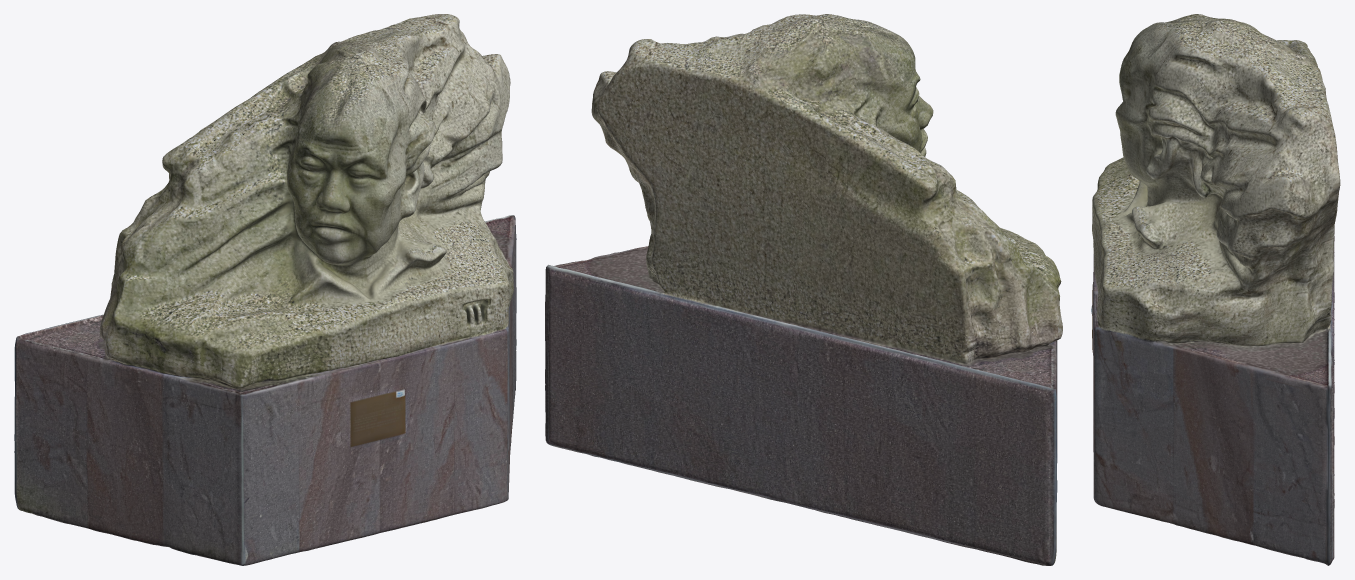
Rendered from tripo_convert_03789140-1d5e-43da-b2f2-a930e6d1ebab.fbx.
3 views of the same model, side by side, from view 1: azimuth 30°, elevation 25°; view 2: azimuth 150°, elevation 25°; view 3: azimuth 270°, elevation 25° (orthographic). The views are drawn at different scales.
Visible parts, largest first — view 1: tripo_node_03789140; view 2: tripo_node_03789140; view 3: tripo_node_03789140.
Boxes of the visible parts, bbox=[...] form: tripo_node_03789140: bbox=[14, 14, 516, 565]; tripo_node_03789140: bbox=[545, 14, 1062, 565]; tripo_node_03789140: bbox=[1091, 14, 1340, 565].
Bounding box in the file's own units: 0.9803 × 0.8205 × 0.41.
1 material, 1 textured.
